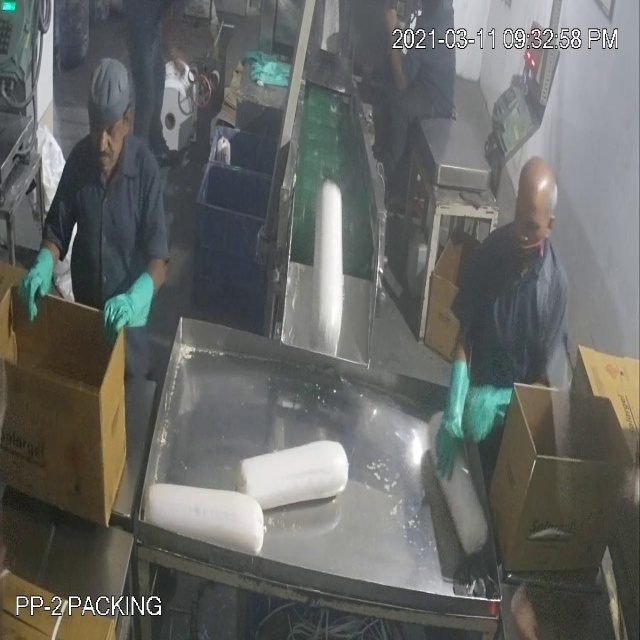Guantes: (92, 266, 166, 354), (436, 354, 474, 474)
